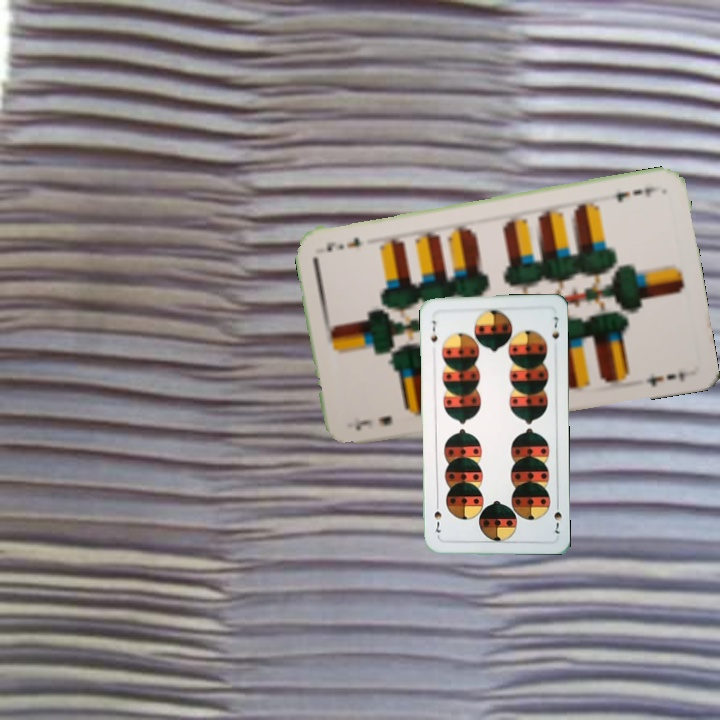E7: (611, 183, 662, 205), (351, 411, 394, 433)
S7: (549, 497, 564, 537), (427, 317, 440, 347)
